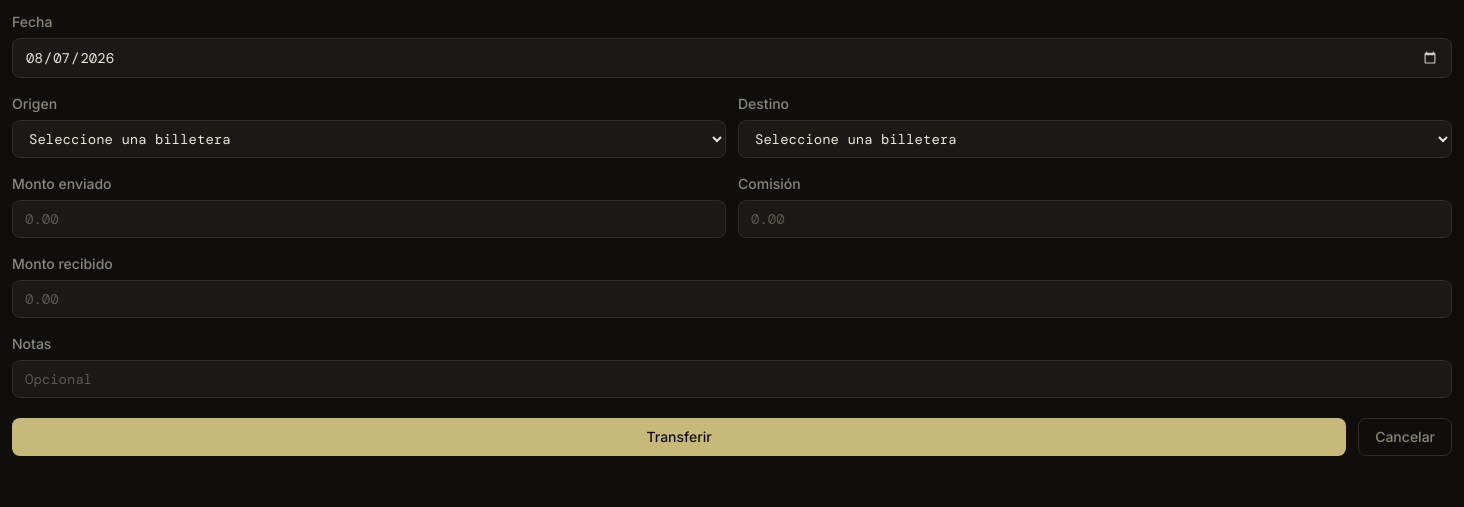
TransferForm › requires different origin and destination wallets
Select "Binance" in the dropdown labelled "Origen". click: point(369, 139)
box: top-left (12, 120), bottom-right (726, 158)
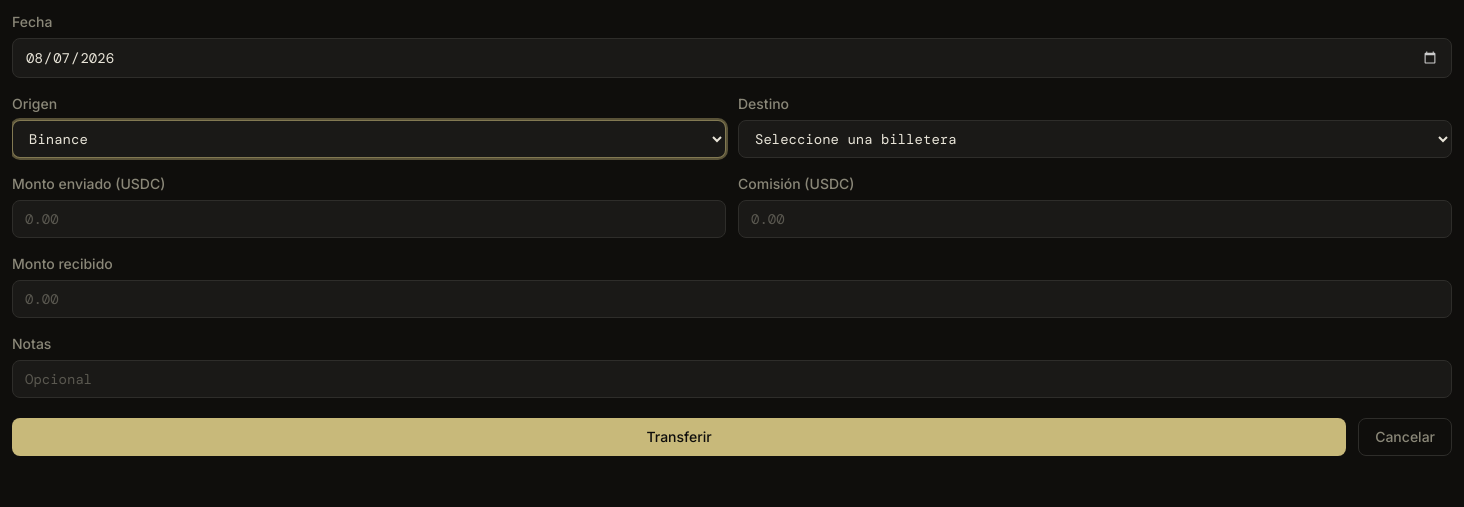
Select "Binance" in the dropdown labelled "Destino". click: point(1095, 139)
box: top-left (738, 120), bottom-right (1452, 158)
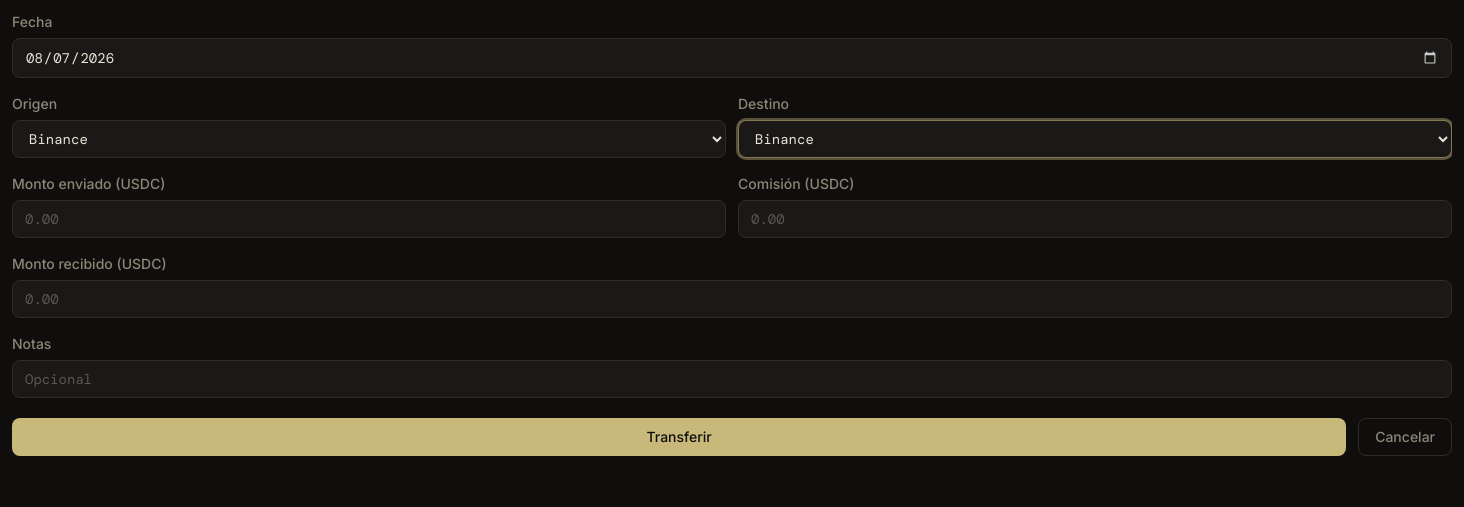
Type "70" into the number field labelled "Monto enviado (USDC)". click: point(369, 219)
box: top-left (12, 200), bottom-right (726, 238)
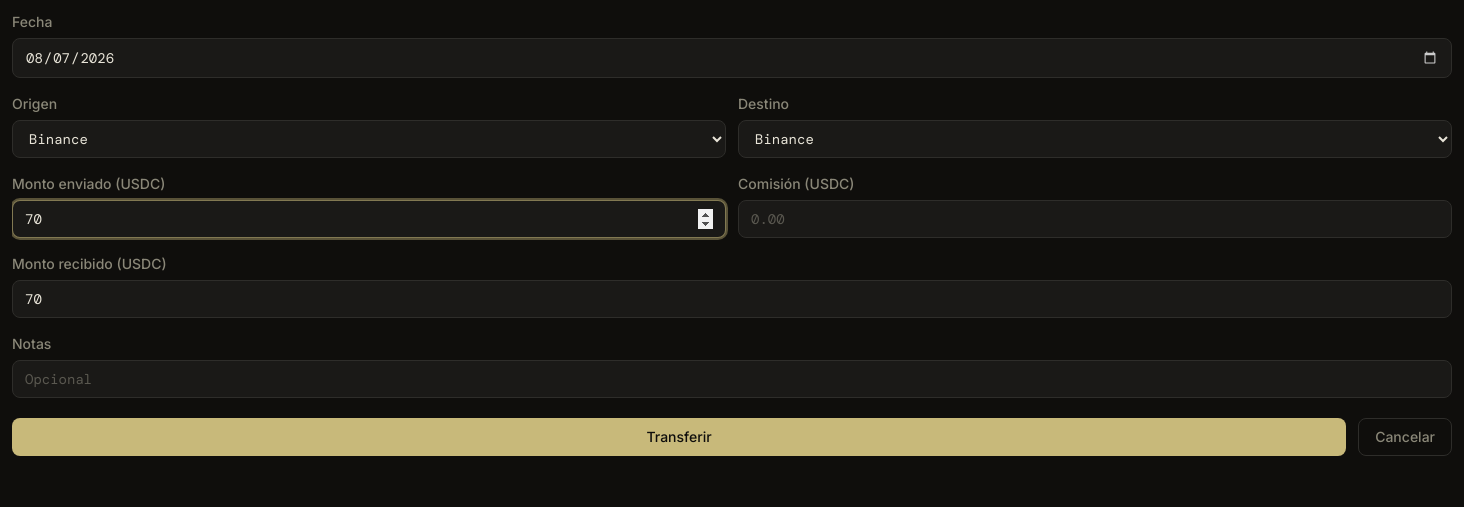
Click the button "Transferir". click: point(679, 437)
box: top-left (12, 418), bottom-right (1346, 456)
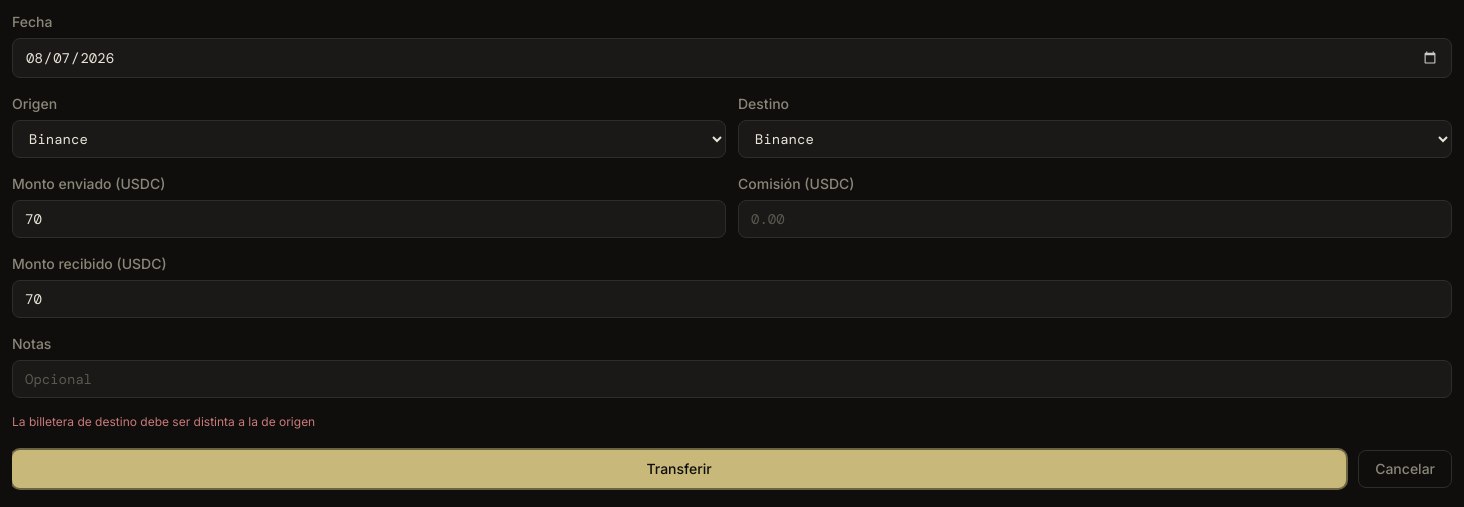
expect the text "La billetera de destino debe ser distinta a la de origen" is shown: met, box top-left (12, 414), bottom-right (315, 429)
